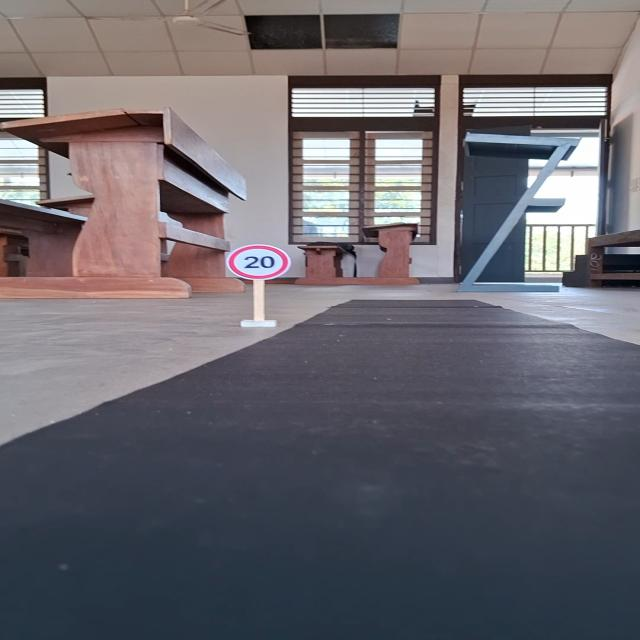Speed20: (222, 242, 295, 282)
